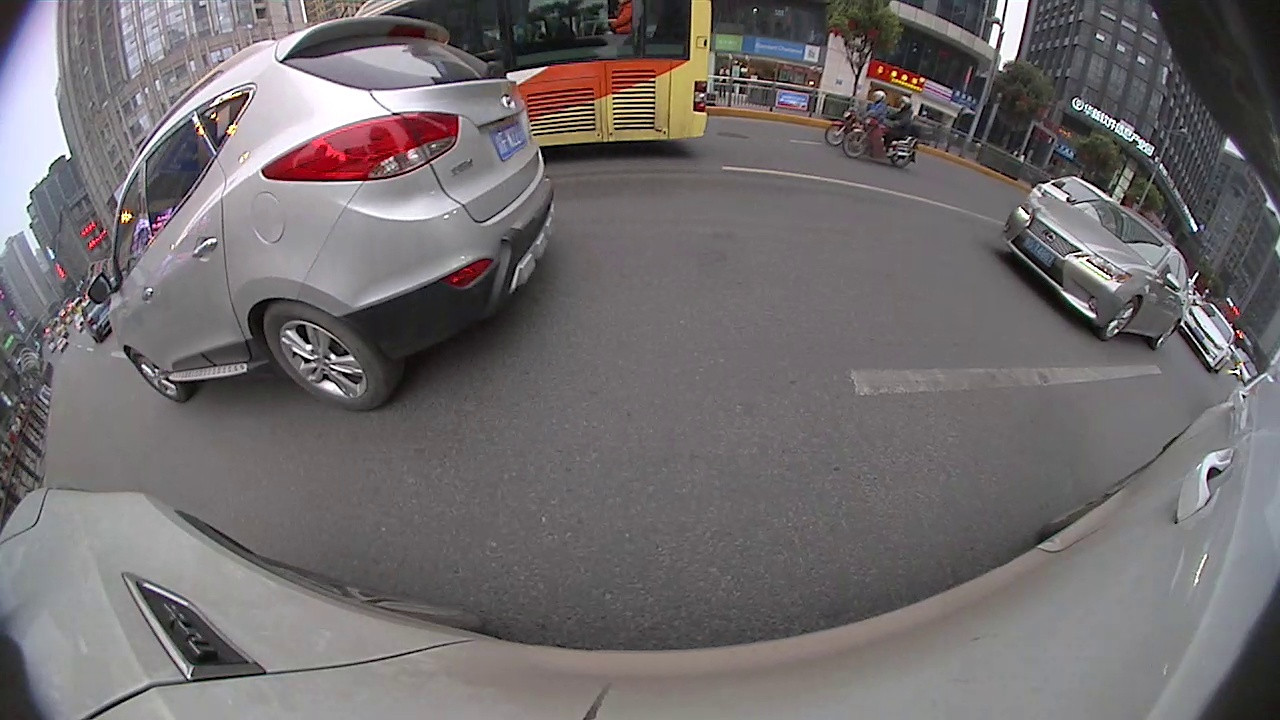bus: (342, 0, 719, 157)
car: (109, 18, 557, 410), (993, 197, 1194, 347), (1177, 298, 1237, 379)
front: (127, 346, 193, 406), (1099, 294, 1138, 343), (843, 129, 871, 159), (825, 122, 848, 148)
rear: (257, 297, 408, 411), (891, 152, 914, 169)
rider: (830, 91, 922, 167)
